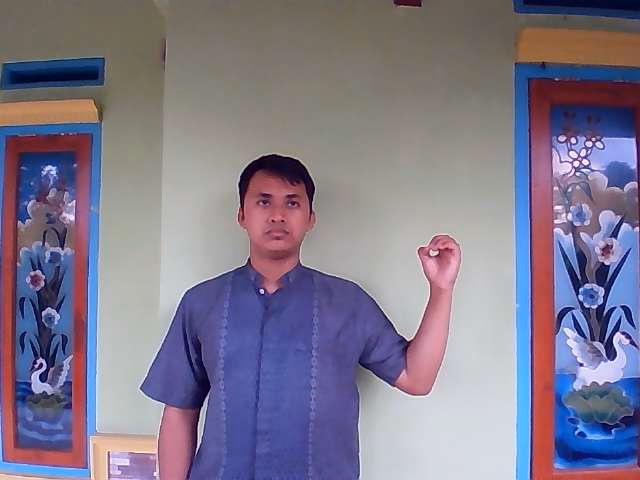O: (416, 232, 463, 285)
